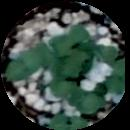Basil: (51, 52, 93, 81), (5, 53, 42, 79), (53, 27, 89, 52), (53, 76, 83, 100), (49, 116, 95, 130), (109, 61, 129, 93), (75, 91, 104, 112)
